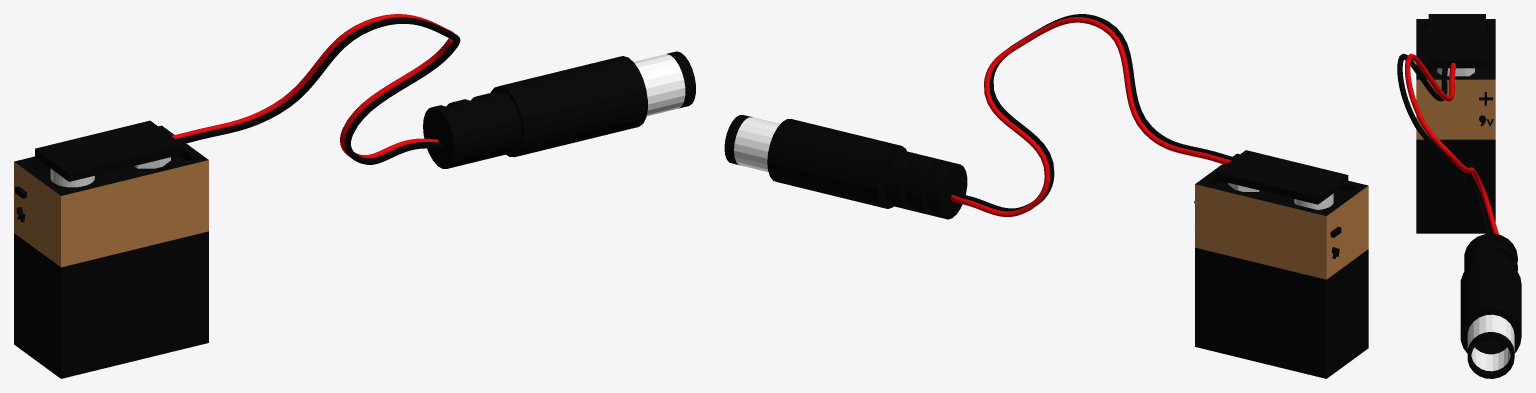
File: 9V BATTERY2.fbx
3 renders of one model, left to right at view 1: azimuth 30°, elevation 25°; view 2: azimuth 150°, elevation 25°; view 3: azimuth 270°, elevation 25°, orthographic. The views are drawn at different scales.
Parts seen in each view (by area): view 1: Cube, Cylinder.002, Plane, BézierCurve.001, BézierCurve.002; view 2: Cube, Cylinder.002, Plane, BézierCurve.002, BézierCurve.001; view 3: Cube, Cylinder.002, Plane, BézierCurve.002, BézierCurve.001, Cylinder.001.
Boxes of the visible parts, box(x1,y1,x2,y2) form: Cube: box(14, 125, 208, 378); Cylinder.002: box(423, 51, 695, 168); Plane: box(35, 120, 184, 181); BézierCurve.001: box(176, 17, 460, 164); BézierCurve.002: box(171, 14, 454, 158); Cube: box(1195, 153, 1368, 378); Cylinder.002: box(724, 115, 967, 219); Plane: box(1215, 150, 1348, 204); BézierCurve.002: box(950, 17, 1231, 216); BézierCurve.001: box(954, 14, 1235, 211); Cube: box(1416, 19, 1495, 233); Cylinder.002: box(1460, 233, 1521, 378); Plane: box(1428, 14, 1485, 68); BézierCurve.002: box(1405, 53, 1499, 234); BézierCurve.001: box(1397, 53, 1491, 233); Cylinder.001: box(1437, 68, 1474, 76).
Bounding box in the file's own units: 941 × 389 × 180.
